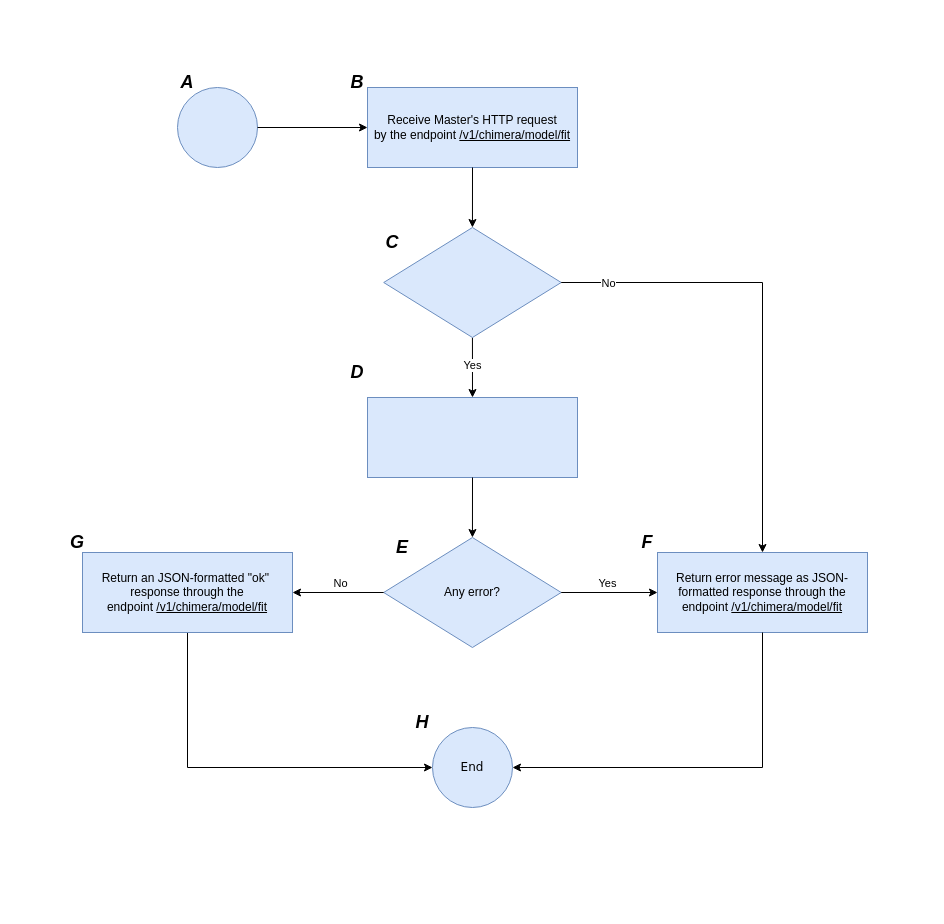
Some shapes in this 944 by 924 pixel diagram are drawn without their labels. Here are the shapes that lost their labels. From the top down, the centre of each, then its label:
At (x=217, y=127): "Beginning".
At (x=472, y=282): "Is Worker alive?".
At (x=472, y=437): "Fit local model in local dataset".
